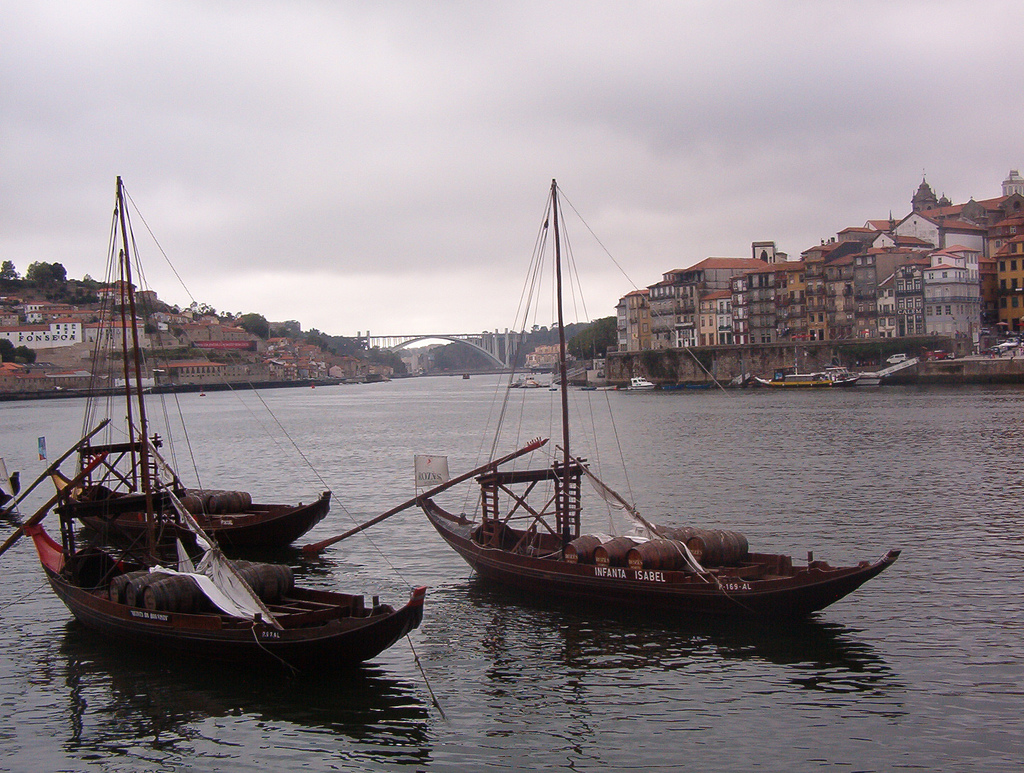arrabida: (348, 328, 518, 369)
